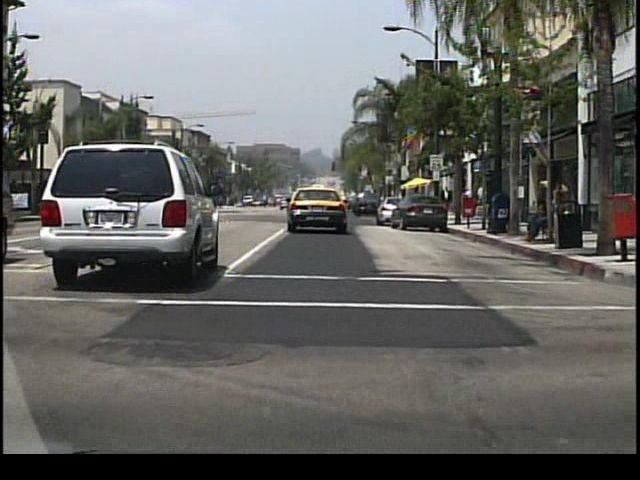person: (523, 189, 559, 242), (549, 177, 564, 234), (440, 184, 453, 215), (483, 183, 484, 213)
